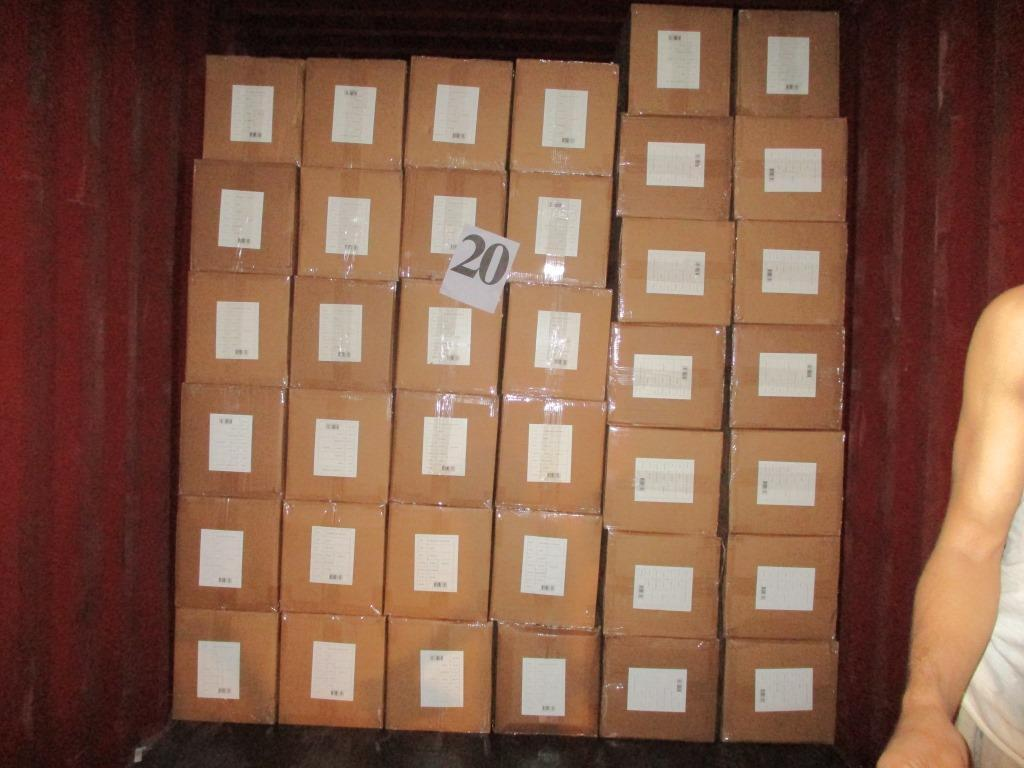carton: (488, 507, 601, 626), (502, 280, 612, 400), (614, 217, 735, 326), (495, 396, 607, 513), (603, 426, 723, 535), (383, 502, 492, 621), (389, 389, 499, 506), (607, 322, 727, 429), (384, 617, 494, 733), (394, 278, 504, 394), (508, 58, 618, 174), (602, 531, 721, 638), (600, 636, 720, 742), (724, 431, 846, 535), (403, 56, 512, 171), (720, 638, 838, 744), (722, 533, 840, 639), (284, 388, 392, 503), (179, 383, 287, 498), (290, 275, 398, 390), (279, 612, 386, 728), (505, 170, 611, 287), (189, 159, 297, 273), (172, 608, 278, 724), (728, 324, 844, 430), (175, 495, 281, 611), (616, 115, 733, 220), (494, 621, 601, 735), (184, 272, 291, 386), (280, 499, 386, 614), (732, 115, 847, 220), (732, 220, 847, 325), (297, 167, 403, 280), (400, 168, 506, 279), (301, 58, 406, 170), (627, 3, 732, 115), (734, 9, 839, 116), (203, 55, 305, 165)
